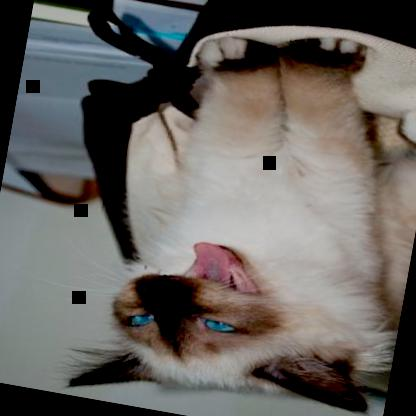cat: (63, 2, 415, 415)
